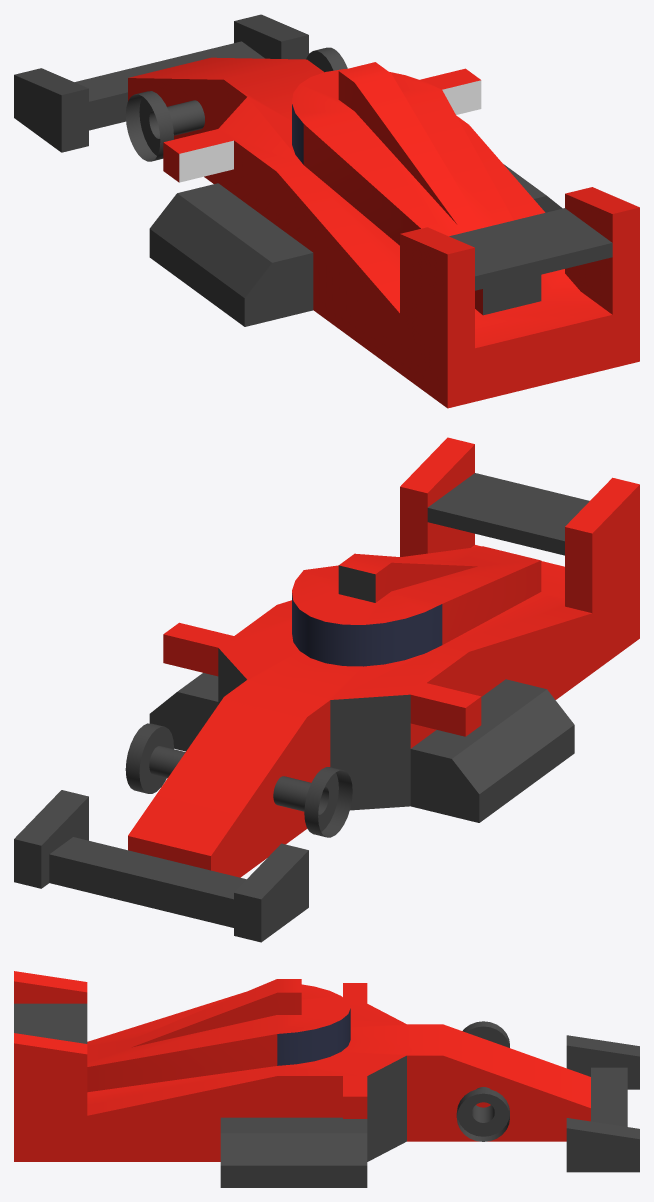
Rendered from SM_Car_Formula_Body.fbx.
3 renders of one model, top to bottom at view 1: azimuth 30°, elevation 25°; view 2: azimuth 150°, elevation 25°; view 3: azimuth 270°, elevation 25°, orthographic. The views are drawn at different scales.
Visible parts, largest first — view 1: SM_Car_Formula_body; view 2: SM_Car_Formula_body; view 3: SM_Car_Formula_body.
Part boxes in pixels (<box>): SM_Car_Formula_body: <box>14,14,639,408</box>; SM_Car_Formula_body: <box>14,437,639,942</box>; SM_Car_Formula_body: <box>14,971,639,1187</box>.
Bounding box in the file's own units: 1.2 × 0.6325 × 2.56.
